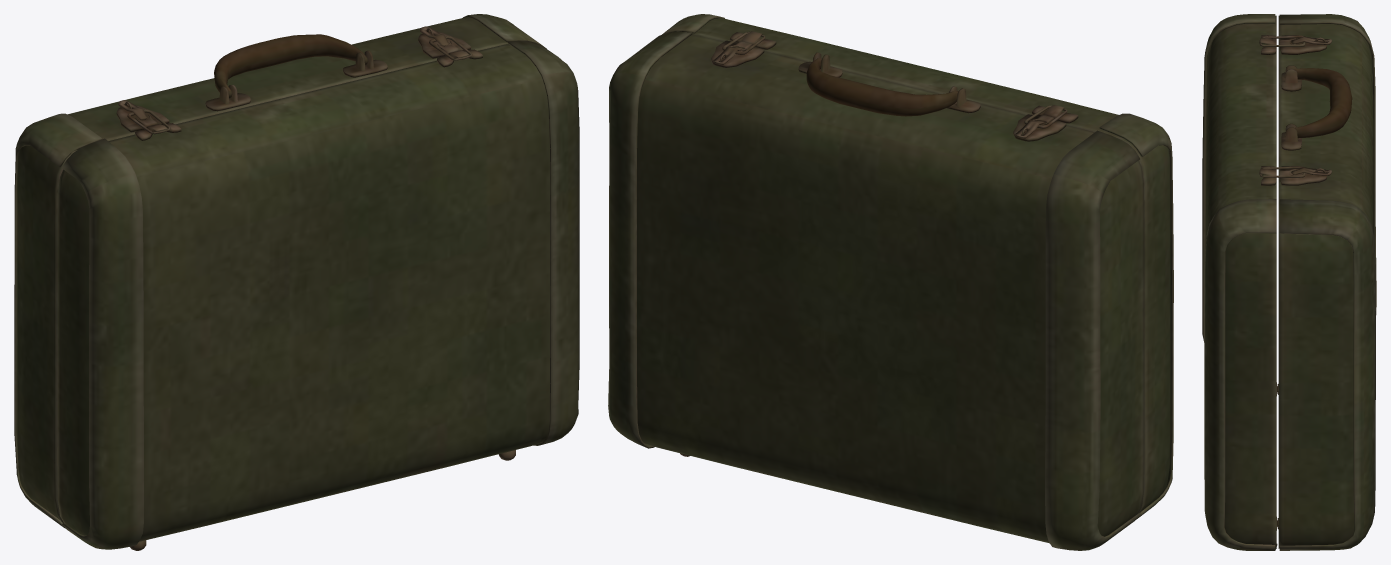
The model's file is vintage_suitcase__a.glb.
The picture shows the model from 3 angles, left to right: view 1: azimuth 30°, elevation 25°; view 2: azimuth 150°, elevation 25°; view 3: azimuth 270°, elevation 25°; orthographic projection. The views are drawn at different scales.
Visible parts, largest first — view 1: vintage_suitcase_01; view 2: vintage_suitcase_01; view 3: vintage_suitcase_01.
Boxes of the visible parts, x1,y1,x2,y2 form: vintage_suitcase_01: [14, 14, 579, 550]; vintage_suitcase_01: [608, 14, 1173, 550]; vintage_suitcase_01: [1202, 14, 1376, 550].
Size of the model in its own units: 0.6938 by 0.5679 by 0.2392.
1 material, 1 textured.
